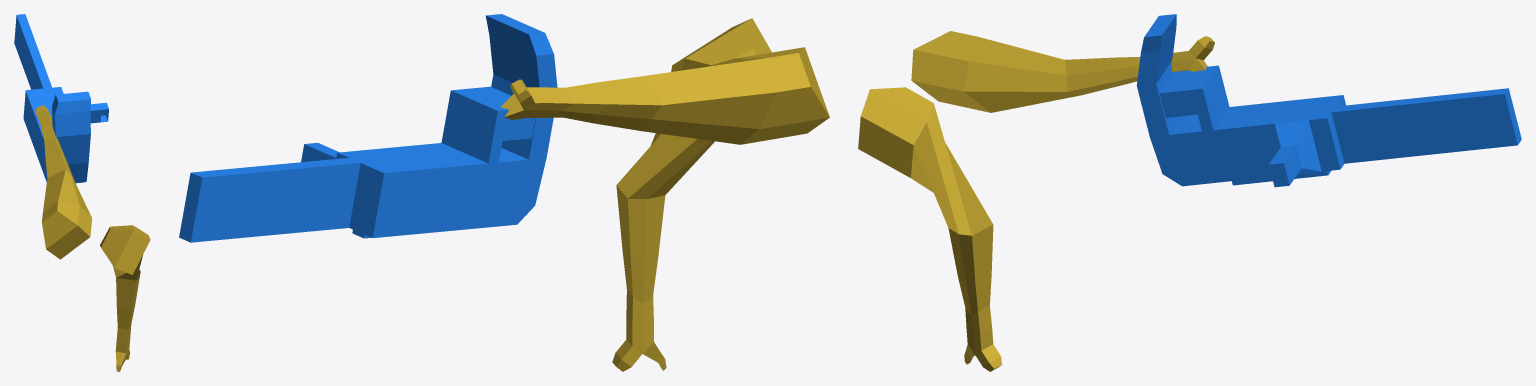
The model's file is arme_000156.obj.
The picture shows the model from 3 angles, left to right: view 1: azimuth 30°, elevation 25°; view 2: azimuth 150°, elevation 25°; view 3: azimuth 270°, elevation 25°; orthographic projection. The views are drawn at different scales.
Parts seen in each view (by area): view 1: Cube.048_Cube.024, Cube.046_Cube.010; view 2: Cube.046_Cube.010, Cube.048_Cube.024; view 3: Cube.046_Cube.010, Cube.048_Cube.024.
Boxes of the visible parts, left/top/right/bottom form: Cube.048_Cube.024: left=36, top=105, right=150, bottom=371; Cube.046_Cube.010: left=14, top=14, right=108, bottom=183; Cube.046_Cube.010: left=179, top=14, right=557, bottom=242; Cube.048_Cube.024: left=501, top=18, right=829, bottom=371; Cube.046_Cube.010: left=1136, top=14, right=1521, bottom=187; Cube.048_Cube.024: left=858, top=31, right=1219, bottom=371.
Bounding box in the file's own units: 1197 × 1515 × 2581.
